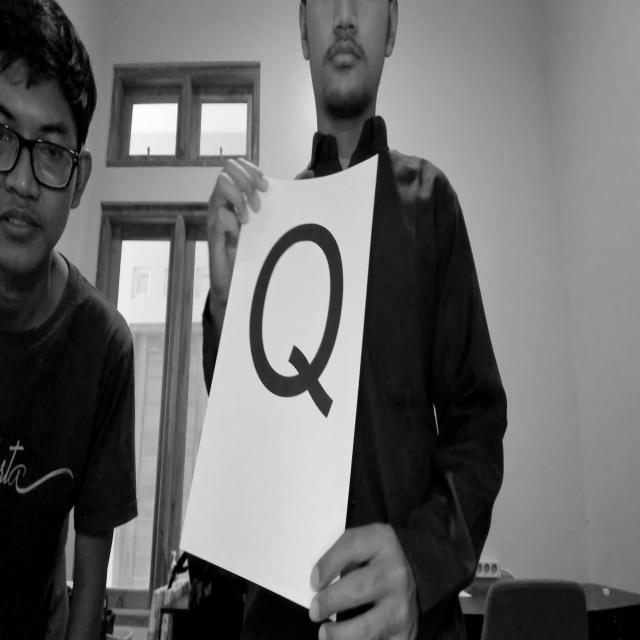q: (245, 209, 353, 424)
